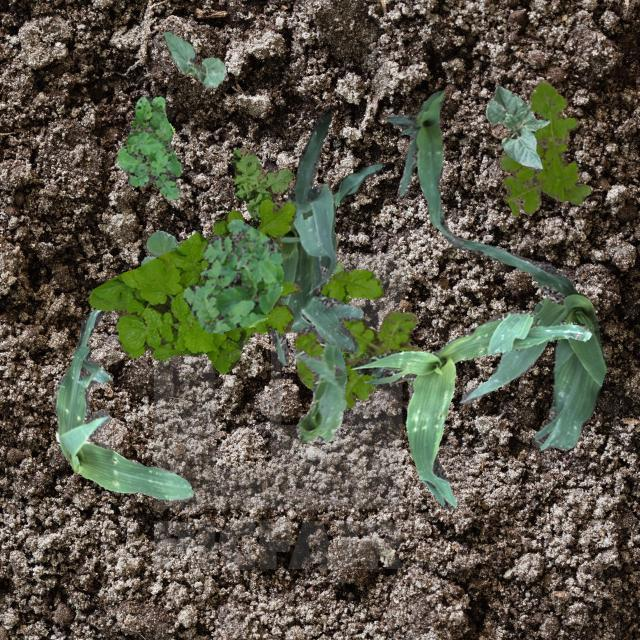crop: (352, 310, 590, 508), (453, 238, 607, 450), (51, 308, 192, 500), (268, 108, 362, 362), (384, 90, 462, 246), (292, 337, 346, 442), (484, 84, 548, 170), (162, 30, 226, 86), (332, 162, 382, 206)
weed: (88, 198, 300, 372), (230, 147, 368, 360), (294, 268, 422, 408), (498, 78, 590, 214), (182, 218, 282, 332), (116, 94, 184, 198), (140, 230, 178, 264)
